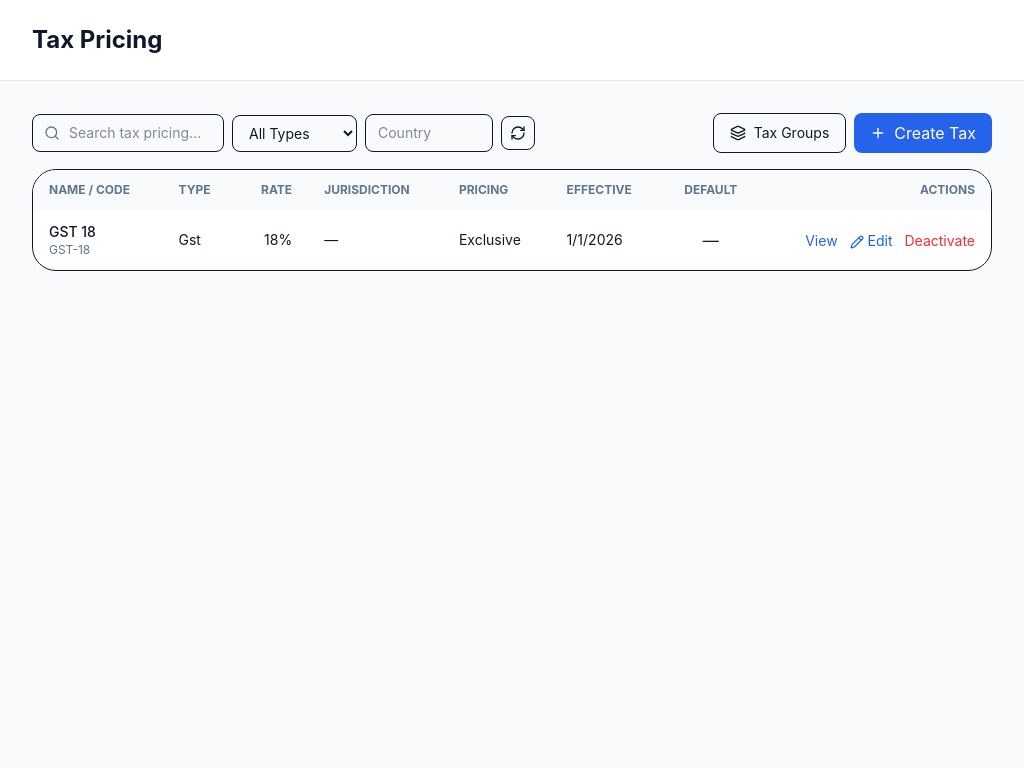
Test: Tax Pricing dialogs › Create Tax opens the dialog, saves and closes it
Expected: the text "GST 18" is shown, [49,223,96,240]
Click the button "Create Tax".
click(923, 133)  # box [854,113,992,153]
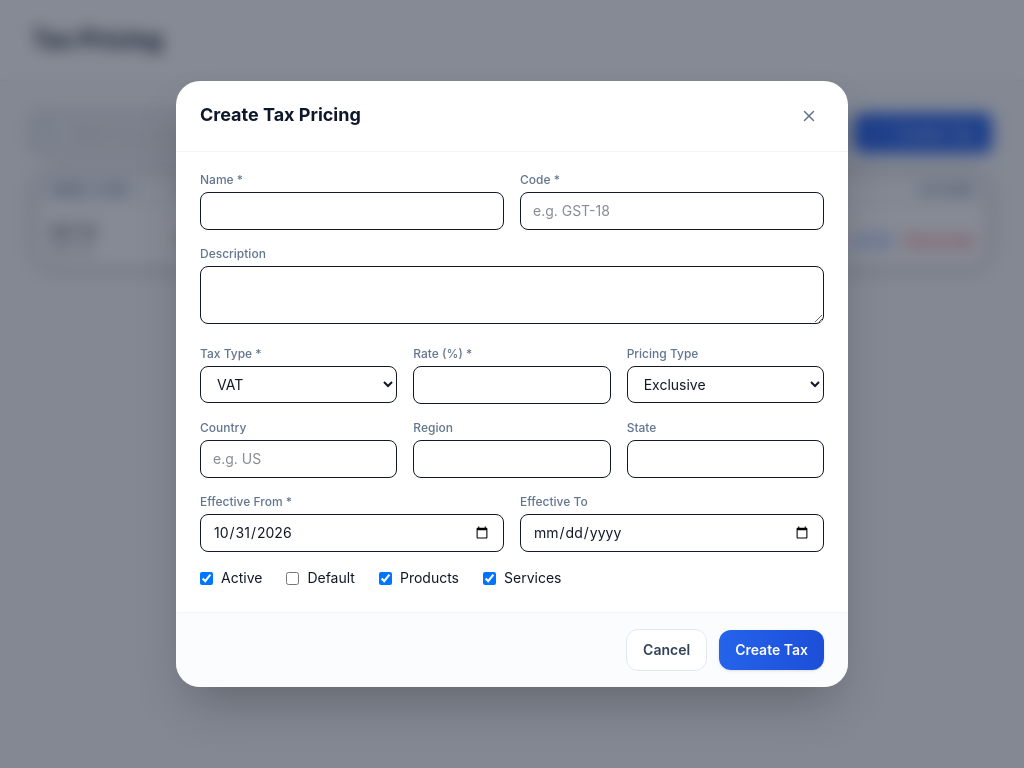
Type "VAT 20" into the field below "Name *".
click(352, 211); type("VAT 20")  # box [200,192,504,230]
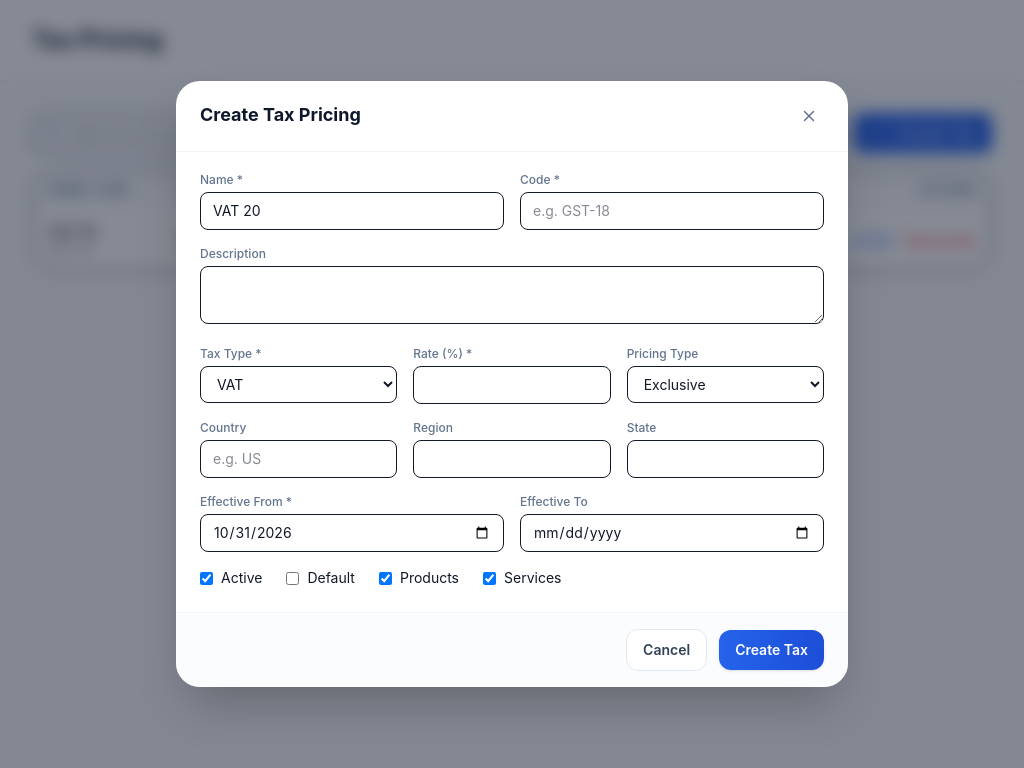
Type "vat-20" into the field with placeholder "e.g. GST-18".
click(672, 211); type("vat-20")  # box [520,192,824,230]
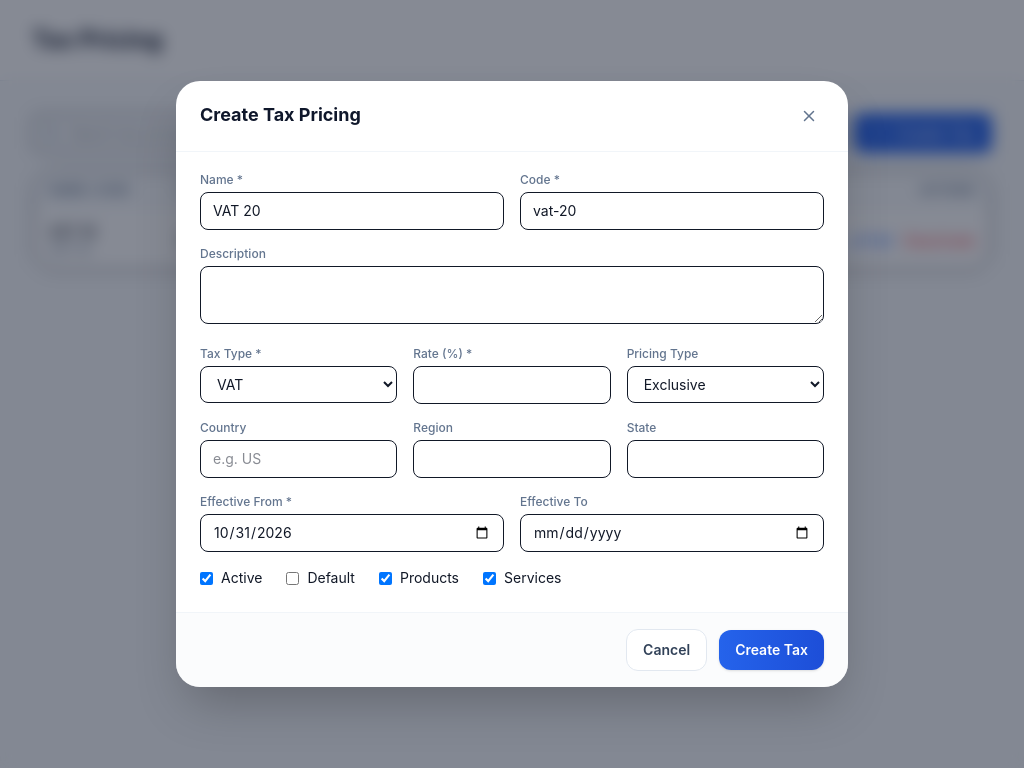
Type "20" into the number field.
click(512, 385); type("20")  # box [413,366,611,404]
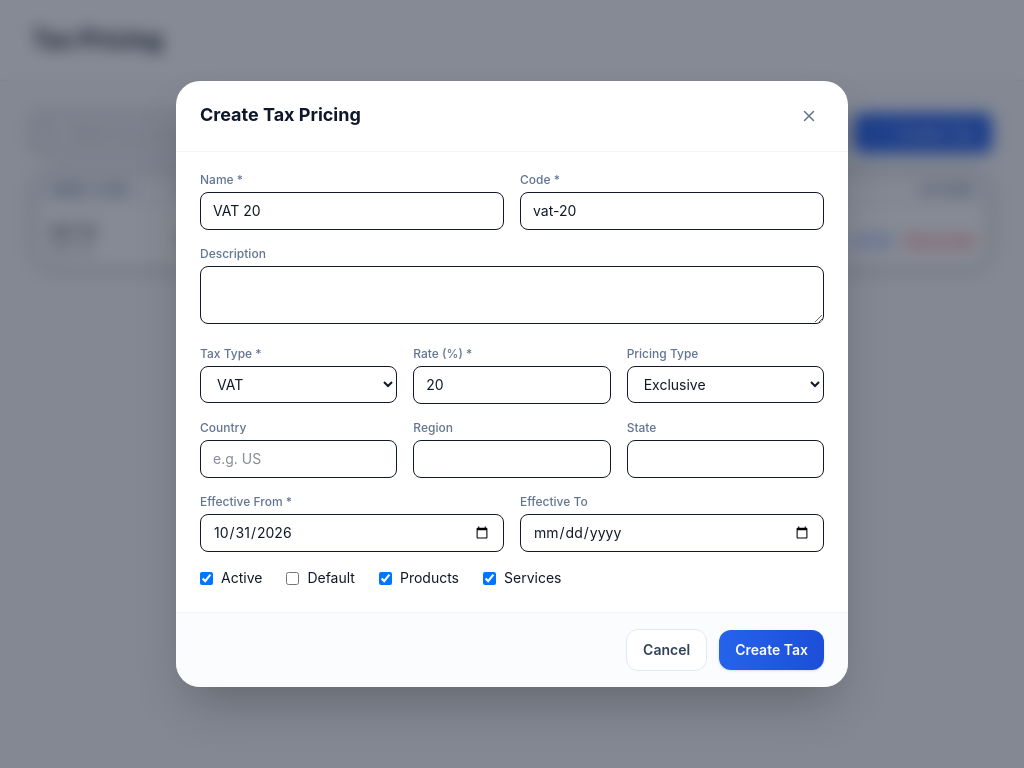
Click the button "Create Tax".
click(772, 650)  # box [719,630,824,670]
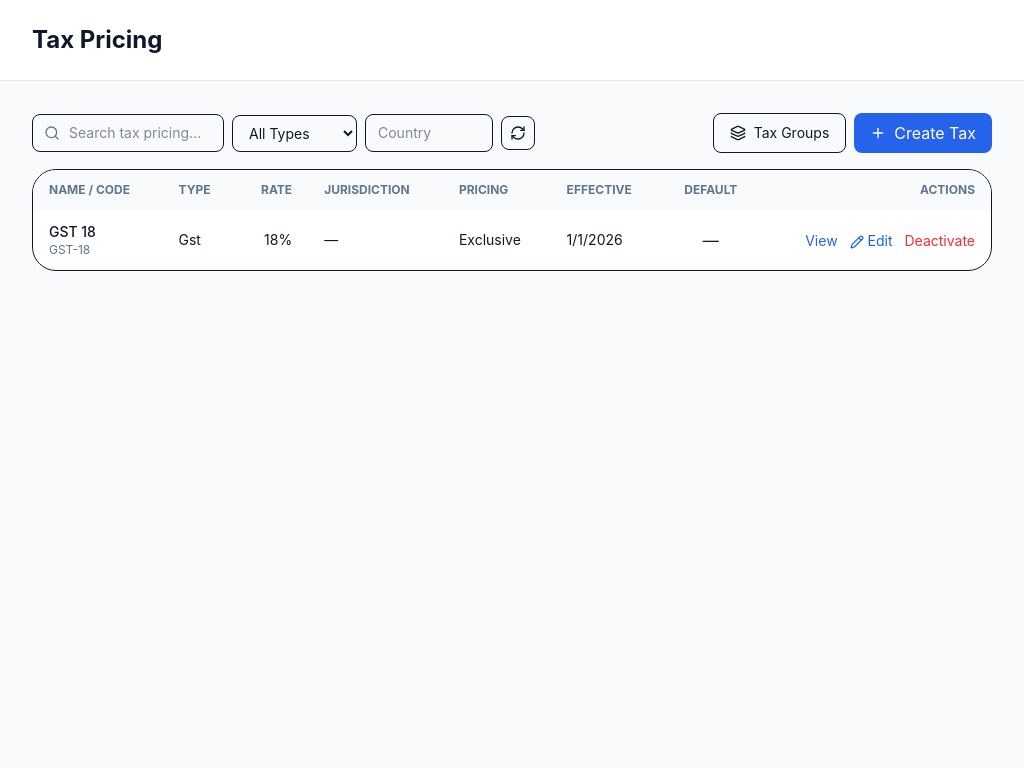
Now the dialog is gone
